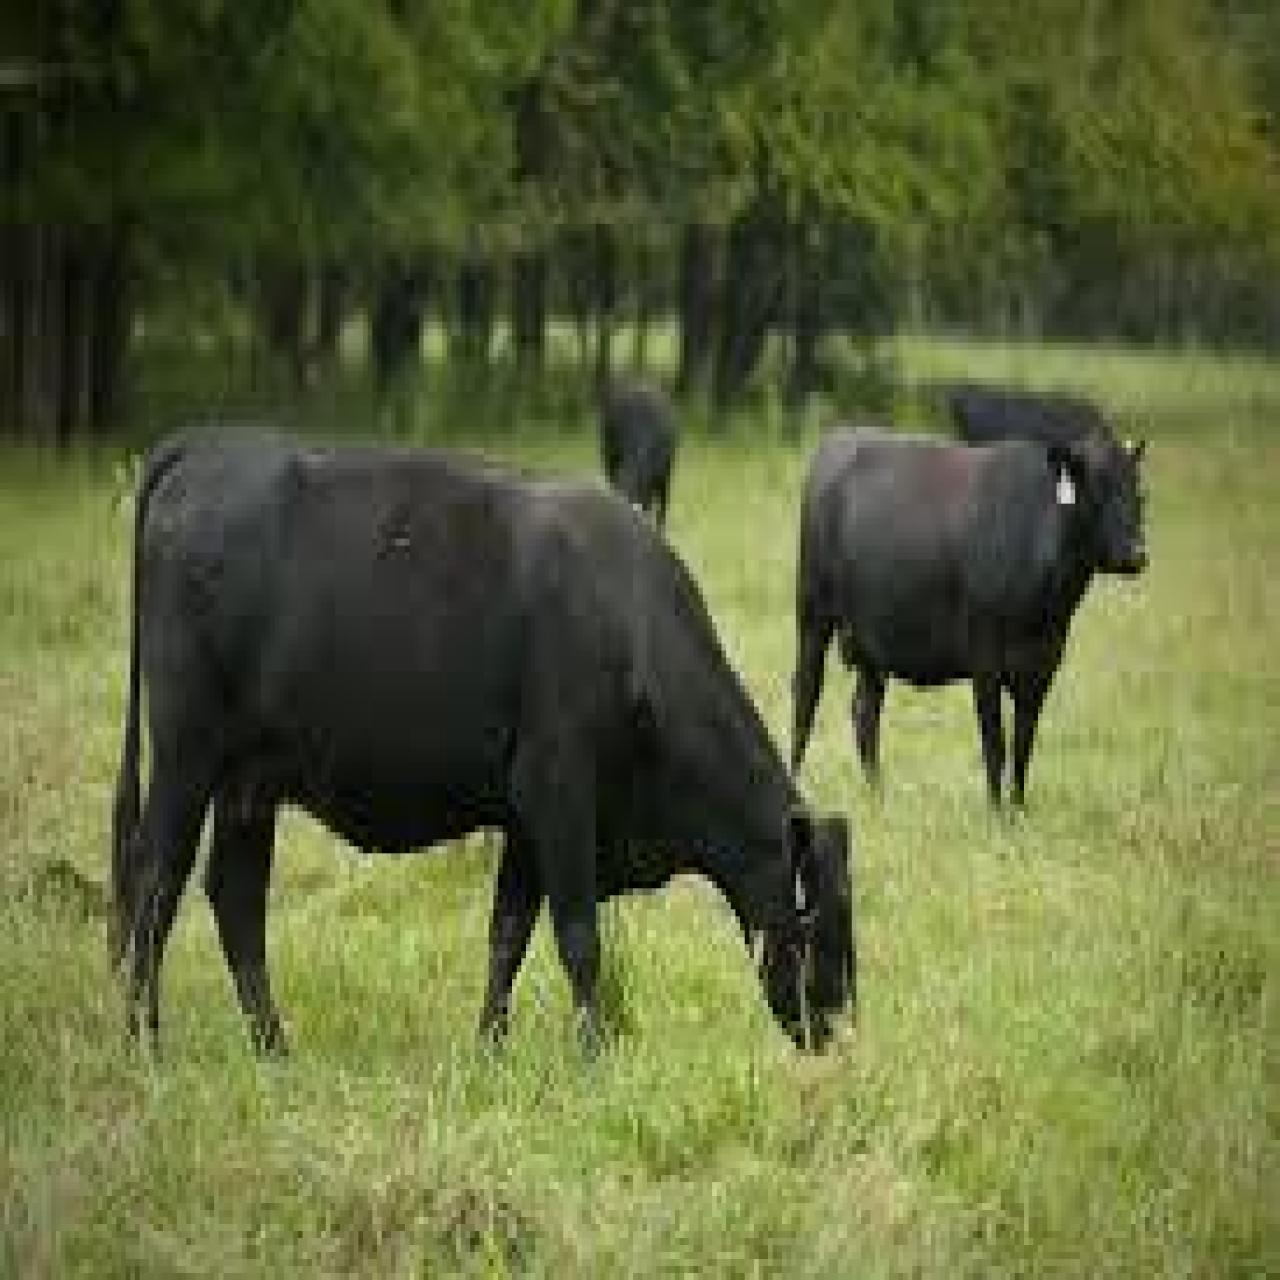cow: (116, 444, 857, 1067), (789, 416, 1152, 815), (600, 384, 680, 531)
